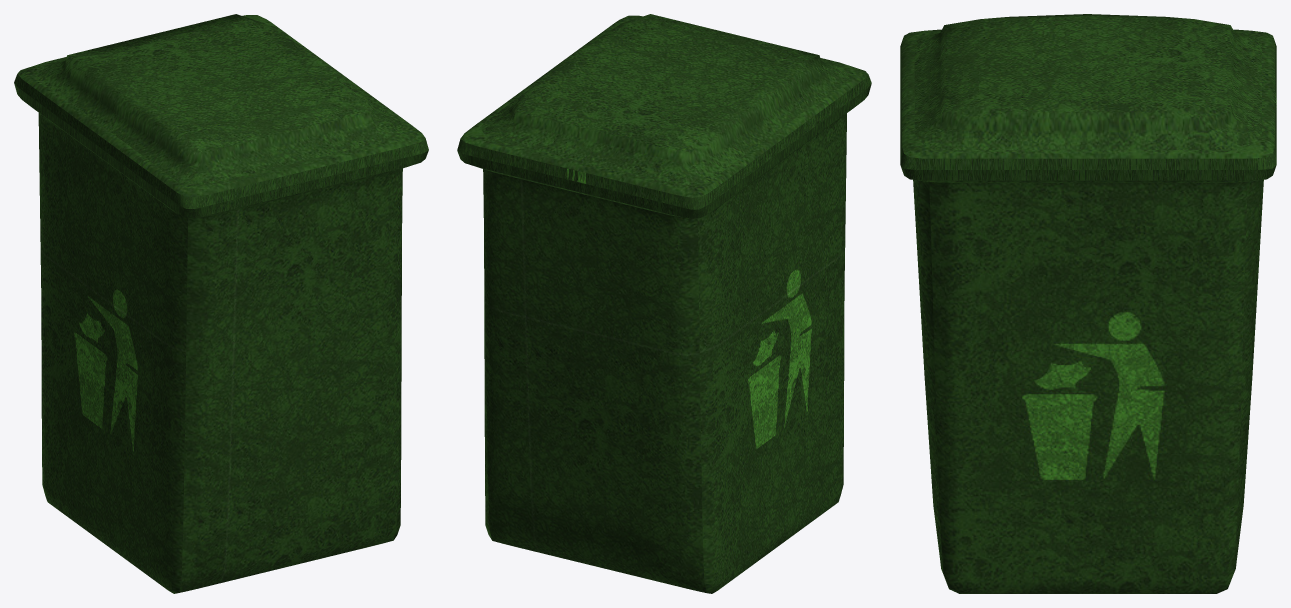
Rendered from street part 1.fbx.
3 views of the same model, side by side, from view 1: azimuth 30°, elevation 25°; view 2: azimuth 150°, elevation 25°; view 3: azimuth 270°, elevation 25° (orthographic). The views are drawn at different scales.
Parts seen in each view (by area): view 1: Object_32; view 2: Object_32; view 3: Object_32.
Part boxes in pixels (x1=…): Object_32: x1=14, y1=14, x2=428, y2=593; Object_32: x1=457, y1=14, x2=871, y2=593; Object_32: x1=900, y1=14, x2=1276, y2=593.
Bounding box in the file's own units: 42.77 × 74.19 × 53.13.
Materials: 1 (1 with a texture image).
